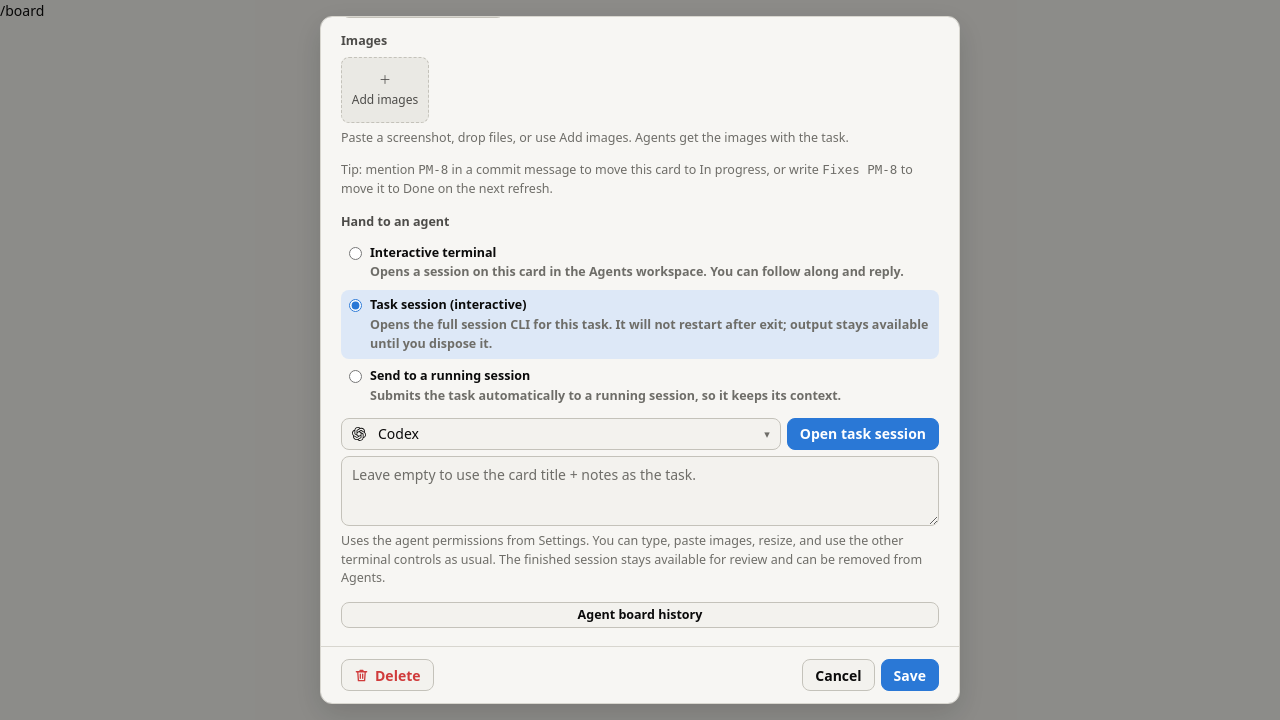
Test: starts a non-supervised interactive task session and opens its terminal
The image size is (1280, 720).
(page scrolled)
Click the radio button labelled "Send to a running session". click: coordinates (356, 377)
box: [349,370,362,383]
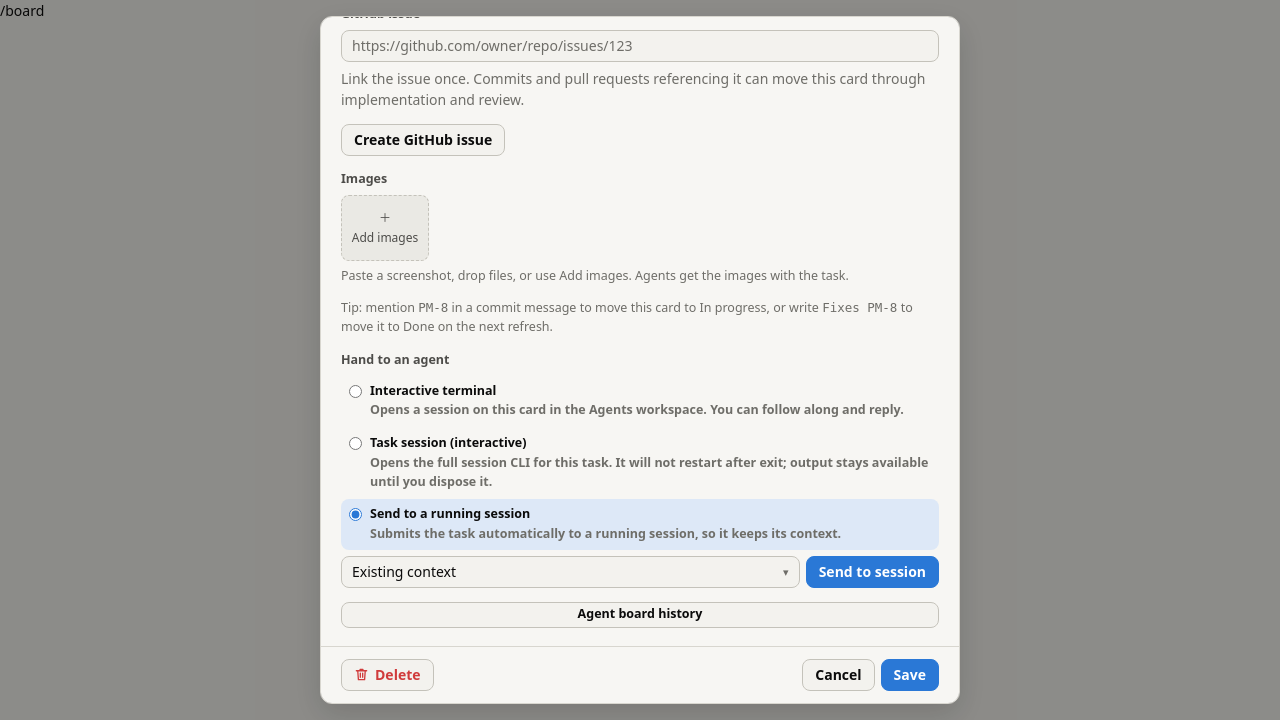
Click the radio button labelled "Task session". click: coordinates (356, 444)
box: [349,437,362,450]
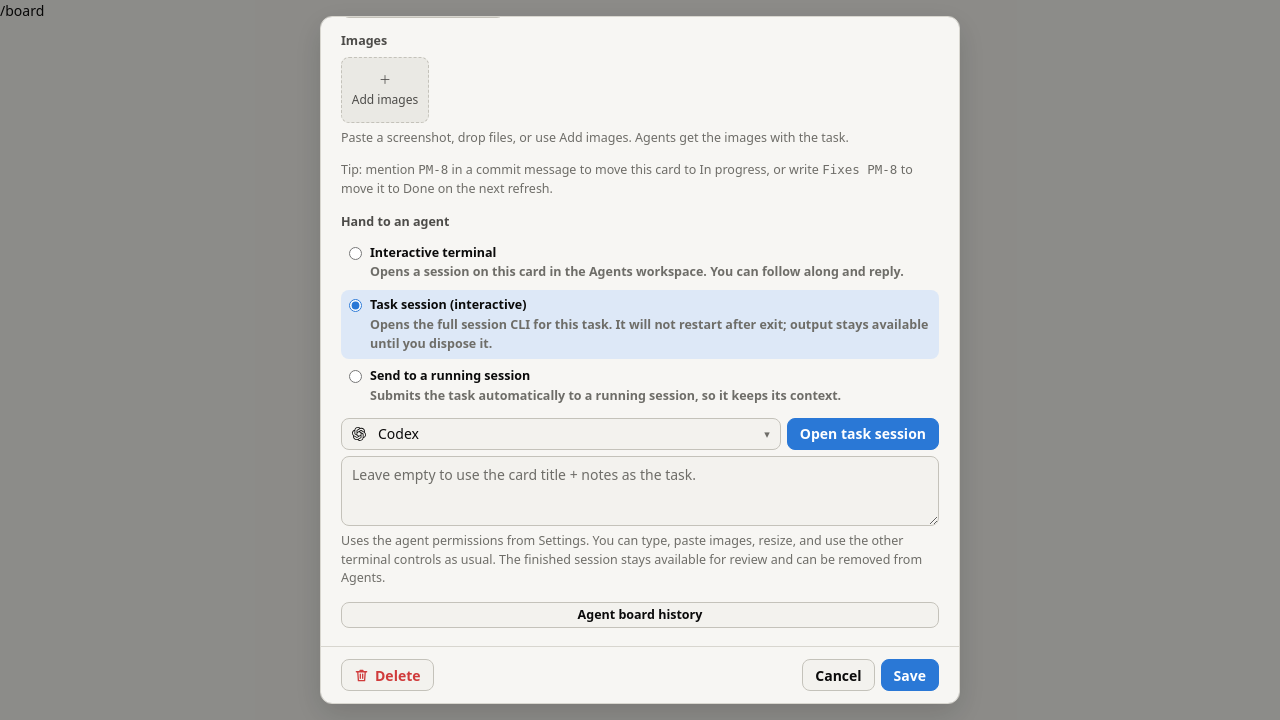
Type "Finish the task and summarize the result." into the text box named "Custom task for the agent (optional)". click: coordinates (640, 491)
box: [341,456,939,526]
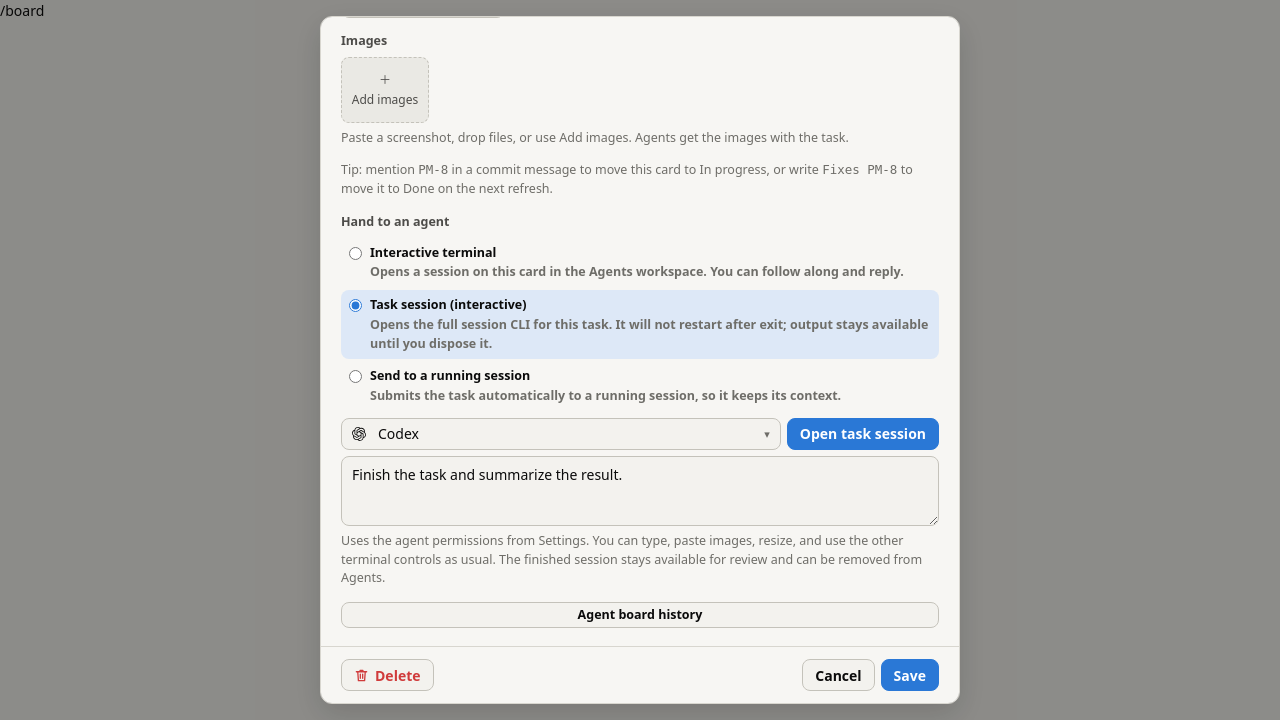
Click the button "Open task session". click: coordinates (863, 434)
box: [787,418,939,450]
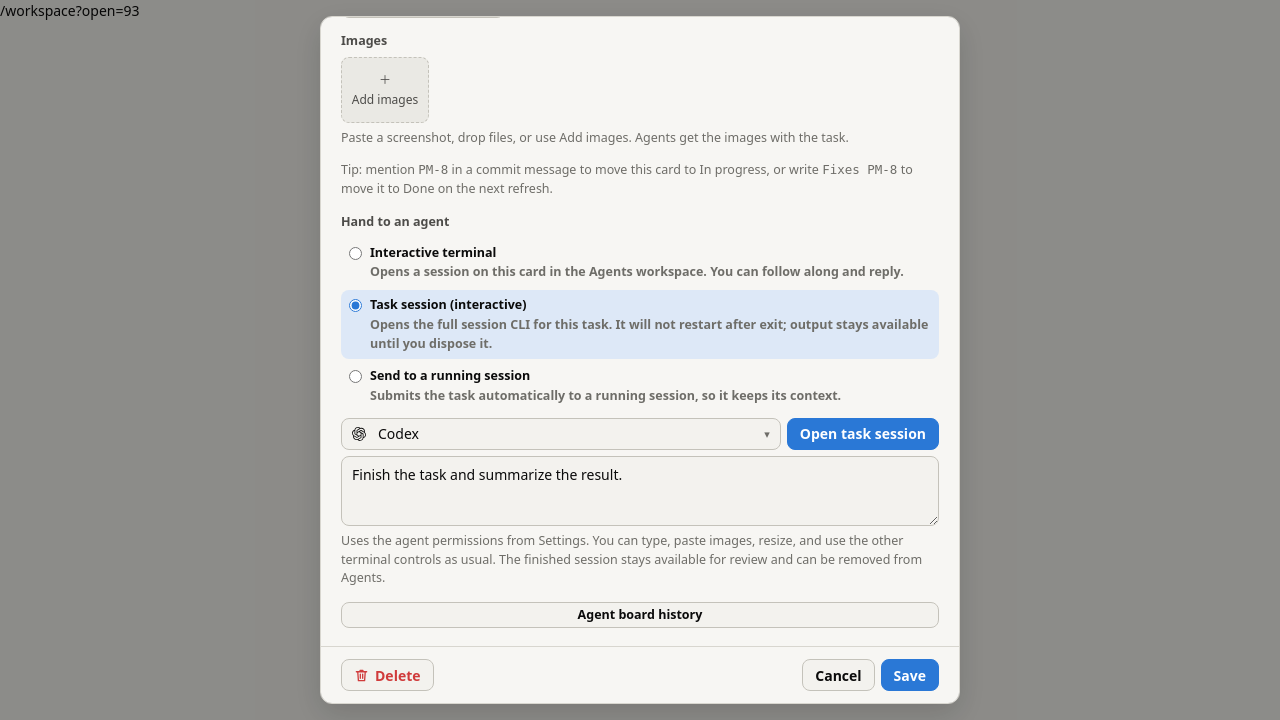
Result: the text with test id "location" reads "/workspace?open=93" at [0,1,140,20]
